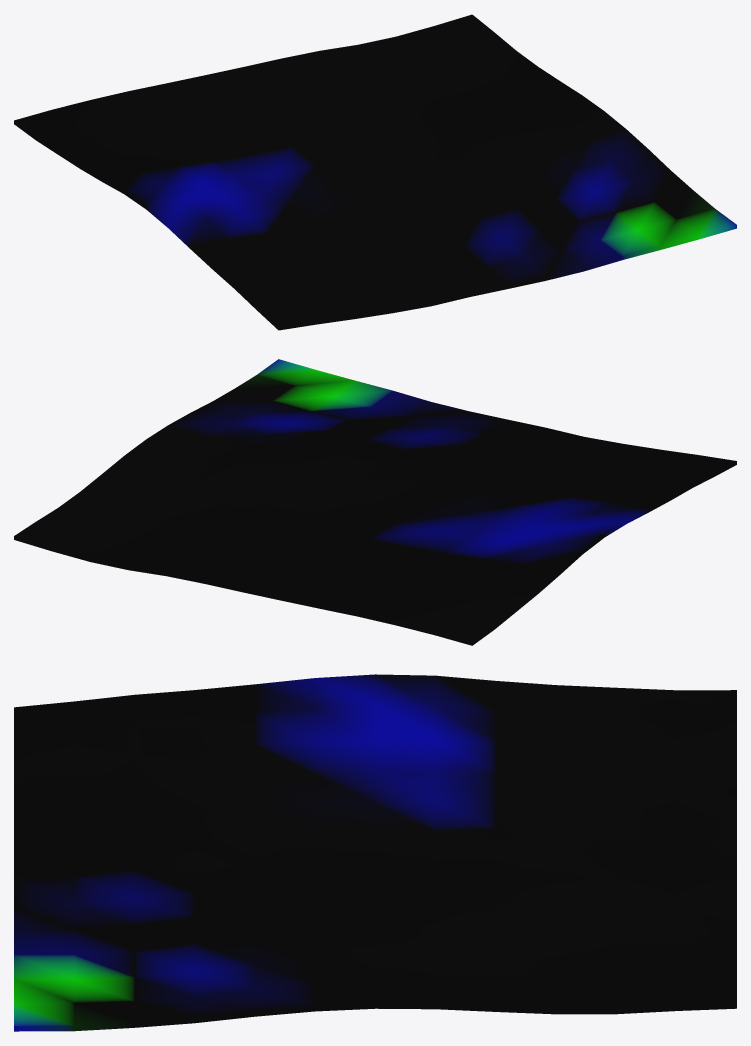
The model's file is coast_12_2.glb.
3 views of the same model, one above another, from view 1: azimuth 30°, elevation 25°; view 2: azimuth 150°, elevation 25°; view 3: azimuth 270°, elevation 25° (orthographic). The views are drawn at different scales.
Parts seen in each view (by area): view 1: terrain; view 2: terrain; view 3: terrain.
Part boxes in pixels (<box>): terrain: <box>14,14,736,330</box>; terrain: <box>14,359,736,645</box>; terrain: <box>14,674,736,1031</box>.
Size of the model in its own units: 192 by 17.36 by 192.
